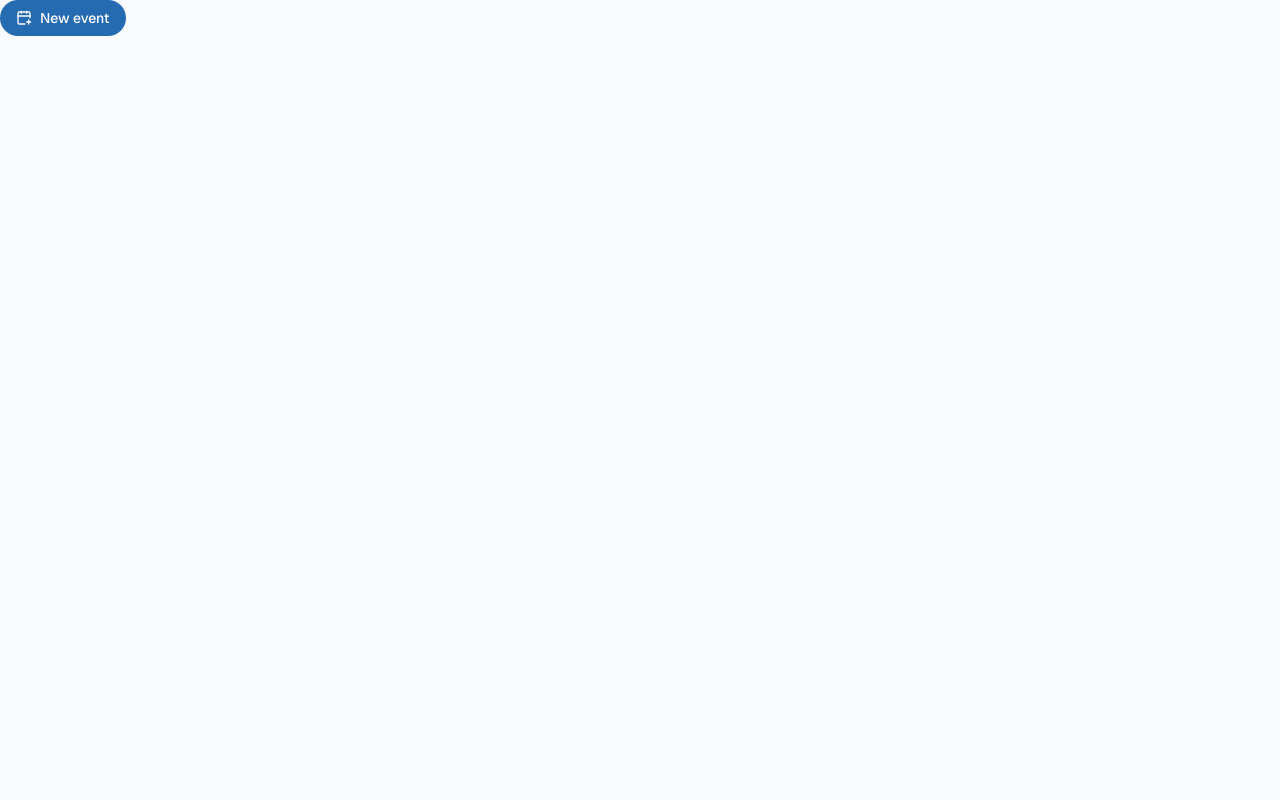
event dialog › focuses the title, validates required fields, and closes with Escape to its trigger
Click the button "New event".
click(63, 18)  # box [0,0,126,36]
(page scrolled)
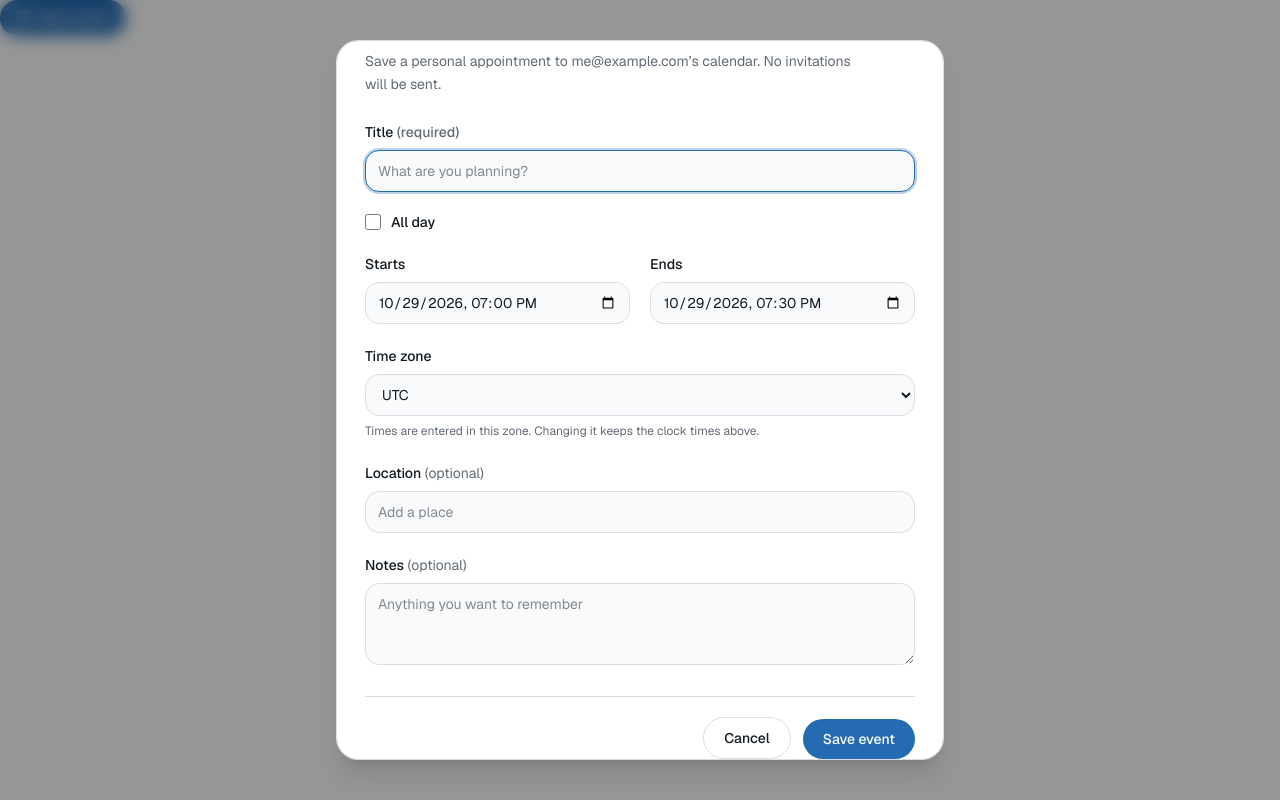
Now the dropdown labelled "Time zone" is enabled, box [365,374,915,416]
Click the button "Save event".
click(859, 739)  # box [803,719,915,759]
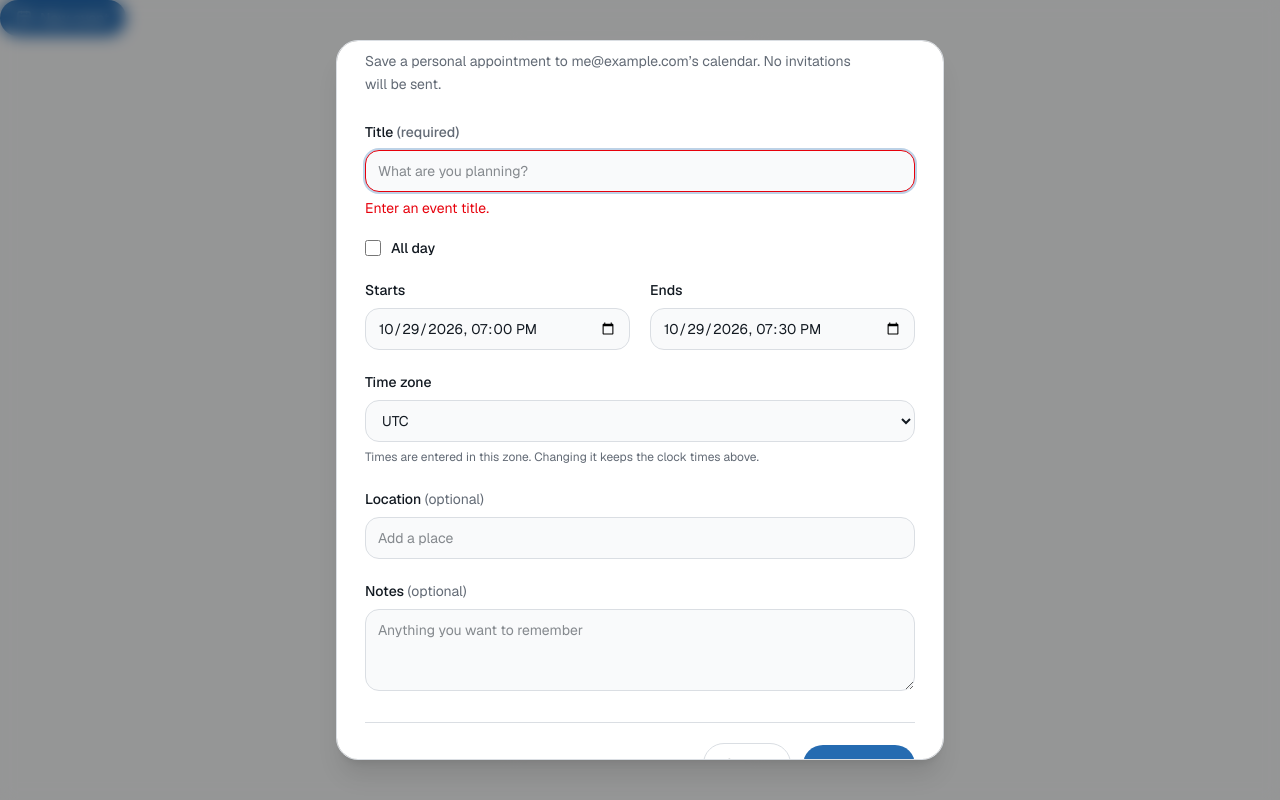
Now the text "Enter an event title." is shown, box [365,198,489,216]
Press Escape
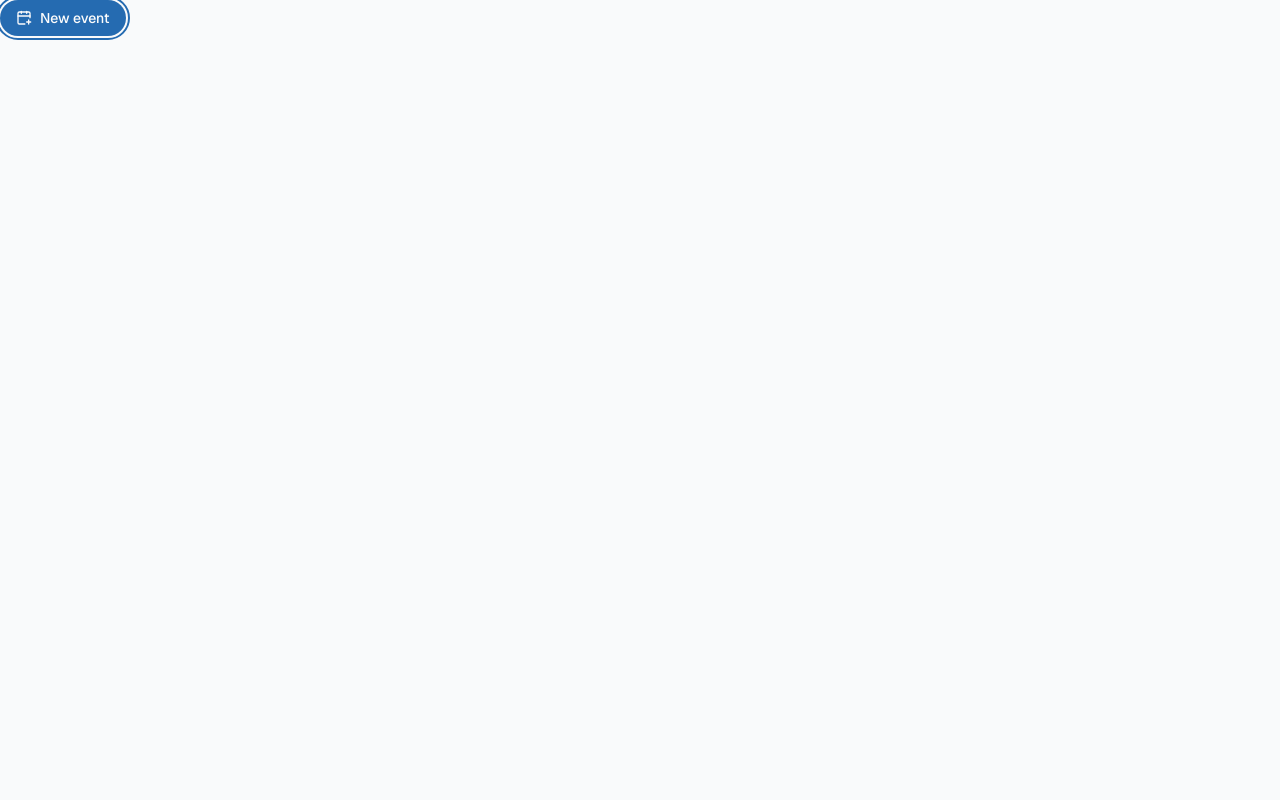
Now the dialog is gone
